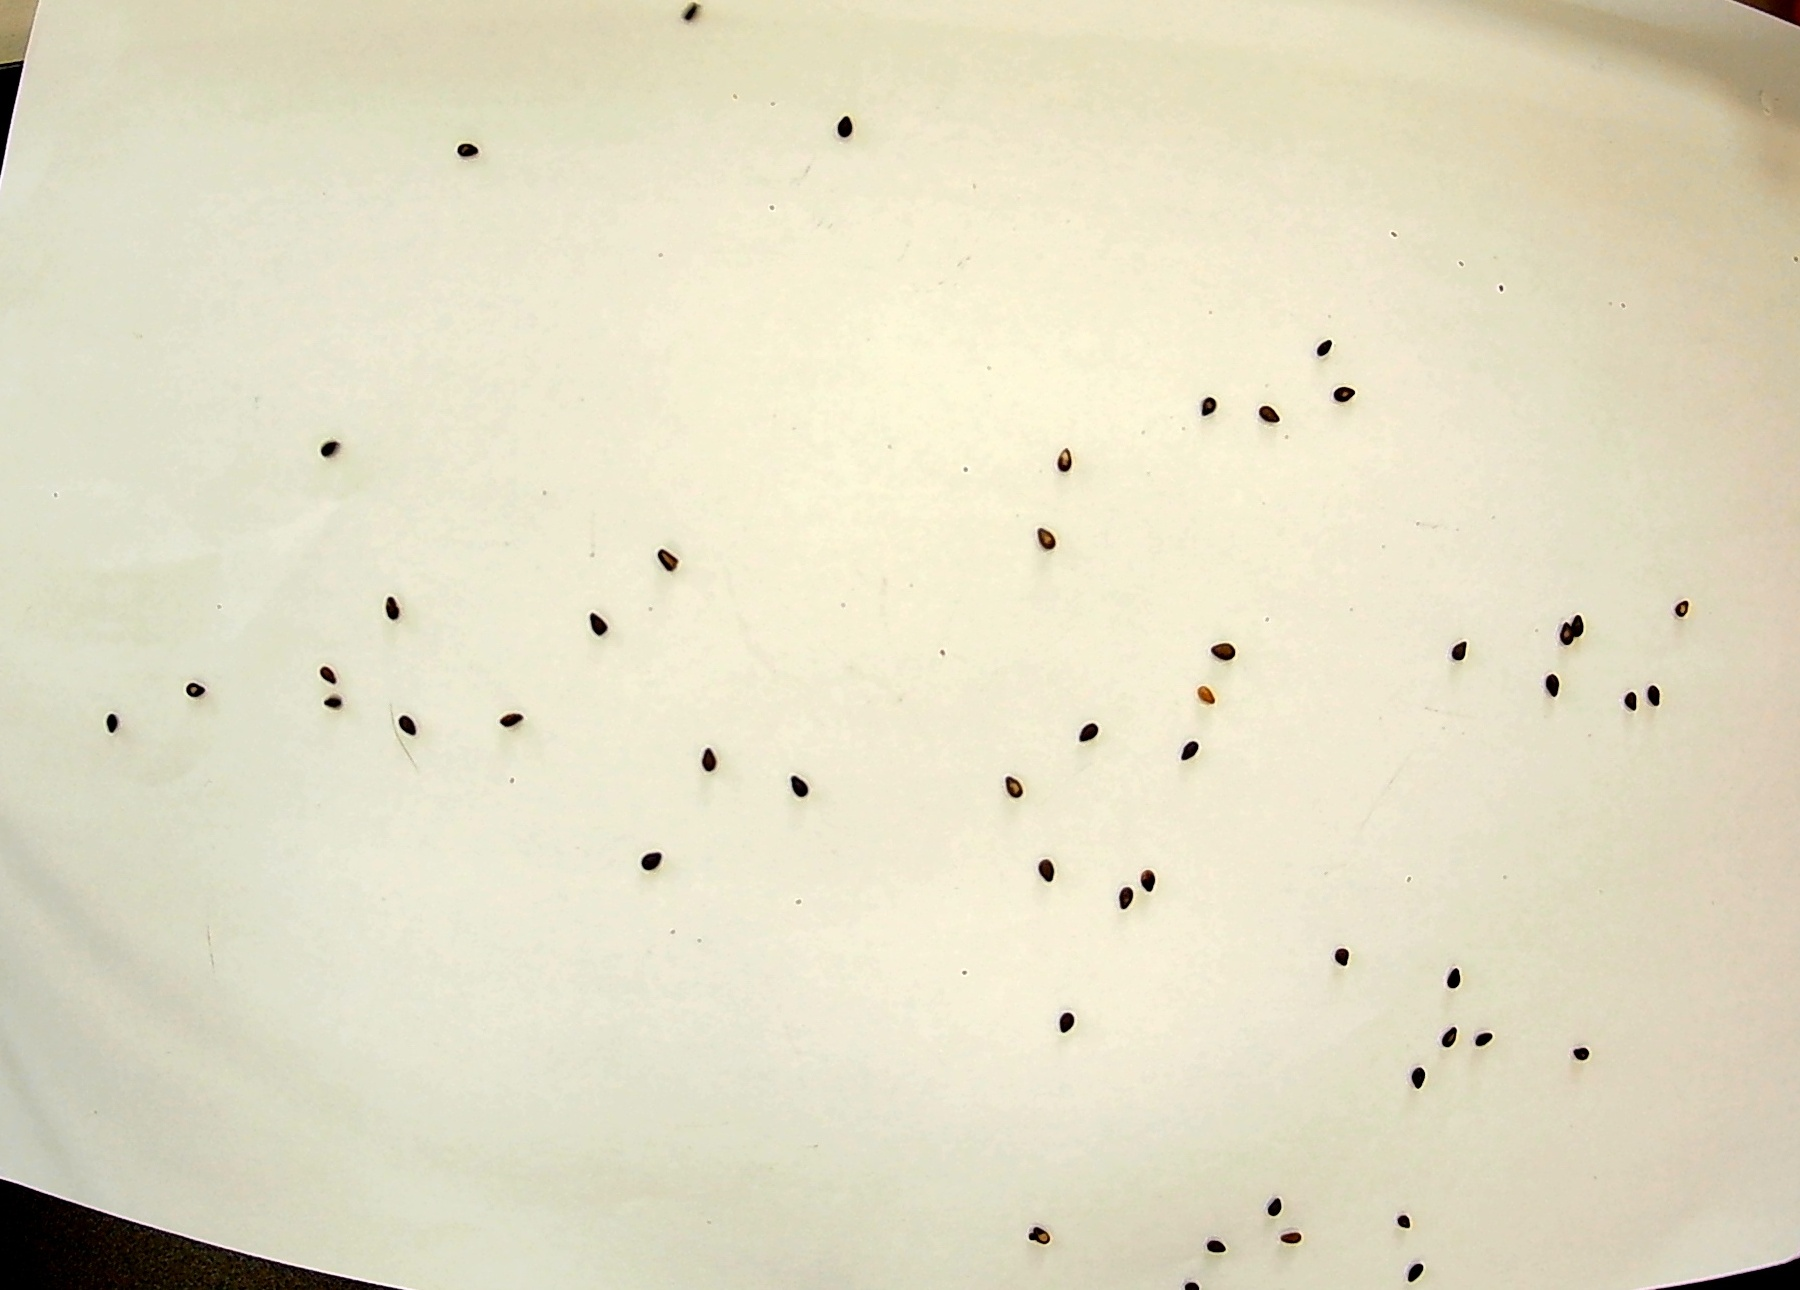sesami: (1319, 380, 1377, 422), (1566, 586, 1600, 653), (368, 581, 419, 627), (1295, 329, 1355, 366), (1538, 658, 1581, 708), (631, 833, 673, 880), (1127, 854, 1168, 900), (1042, 438, 1088, 477), (172, 677, 220, 713), (1019, 519, 1065, 557), (832, 96, 864, 149), (1254, 1188, 1299, 1226), (1434, 954, 1471, 1000), (1387, 1203, 1427, 1243), (1538, 616, 1582, 651), (1182, 388, 1224, 424), (491, 699, 526, 739), (1637, 672, 1676, 706), (1204, 637, 1250, 666), (96, 706, 134, 741), (578, 605, 615, 639), (398, 704, 428, 746), (1176, 730, 1206, 773), (1067, 715, 1104, 750), (781, 768, 815, 806), (1033, 838, 1060, 882), (306, 436, 346, 466), (642, 543, 682, 574), (992, 768, 1027, 803), (1566, 1037, 1599, 1072), (315, 651, 340, 697), (1197, 1227, 1235, 1256), (1252, 403, 1291, 431), (1400, 1250, 1427, 1289), (1187, 681, 1231, 706), (1112, 873, 1139, 912), (1446, 642, 1482, 670), (1053, 1002, 1081, 1037), (1268, 1234, 1312, 1256), (1024, 1227, 1060, 1254), (700, 739, 723, 780), (451, 138, 481, 166), (1333, 949, 1360, 979), (1432, 1026, 1468, 1048), (673, 6, 707, 28), (315, 692, 342, 722), (1667, 599, 1691, 631), (1402, 1067, 1432, 1089), (1473, 1030, 1499, 1053), (1623, 690, 1641, 716)
